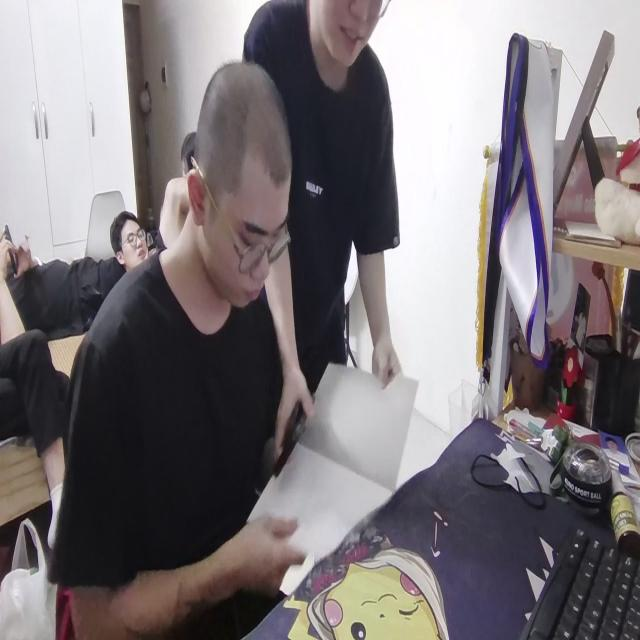book: (248, 352, 416, 593)
extra_person: (241, 0, 409, 446), (111, 203, 171, 263)
phone: (271, 411, 308, 476)
student: (54, 62, 308, 638)
